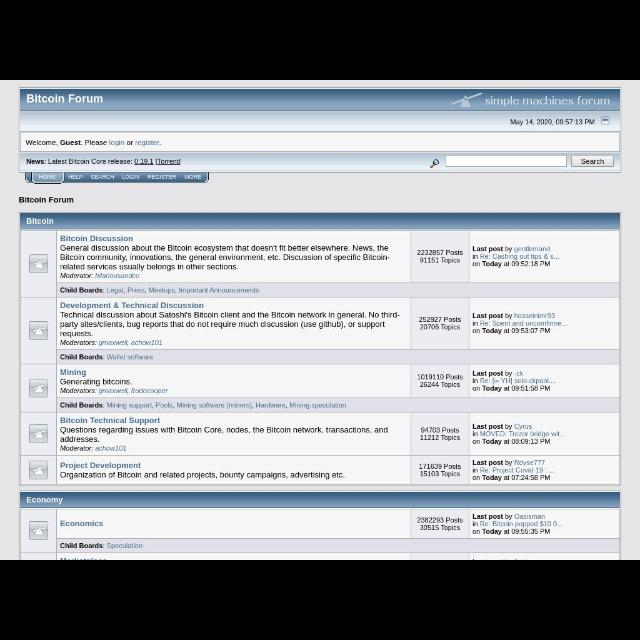button: (30, 522, 50, 542), (30, 377, 48, 399), (30, 254, 48, 274), (30, 320, 48, 340), (30, 424, 48, 444), (30, 460, 48, 480)
icon: (34, 258, 46, 270), (34, 382, 46, 394), (34, 326, 46, 336), (34, 464, 44, 476), (34, 428, 44, 439), (34, 526, 44, 536), (602, 118, 608, 124)
image: (452, 90, 483, 110), (426, 159, 439, 169)
input: (446, 154, 566, 168)
link: (60, 302, 204, 310), (60, 415, 160, 425), (59, 462, 142, 470), (178, 285, 260, 293), (479, 430, 561, 438), (480, 520, 560, 528), (175, 401, 251, 409), (289, 401, 347, 411), (61, 234, 133, 242), (480, 377, 550, 385), (480, 466, 544, 474), (480, 321, 562, 327), (94, 270, 140, 280), (131, 385, 169, 397), (480, 253, 556, 259), (106, 352, 156, 360), (108, 401, 152, 409), (59, 519, 103, 527), (106, 542, 144, 550), (99, 386, 129, 396), (254, 402, 286, 411), (94, 445, 128, 453), (514, 313, 556, 319), (516, 513, 546, 521), (99, 339, 128, 347), (130, 339, 163, 346), (59, 368, 86, 376), (514, 246, 550, 252), (148, 287, 174, 295), (108, 136, 124, 148), (515, 459, 545, 465), (126, 286, 146, 294), (514, 422, 534, 430), (136, 140, 160, 146), (106, 286, 124, 294), (156, 402, 174, 410), (514, 371, 524, 375)
multitab: (25, 172, 208, 182)
panel: (20, 212, 620, 488), (19, 88, 621, 172)
text: (61, 309, 402, 339), (60, 242, 392, 272), (61, 426, 390, 444), (59, 284, 264, 298), (472, 419, 566, 449), (470, 308, 568, 336), (59, 402, 349, 411), (469, 242, 561, 270), (60, 472, 346, 481), (470, 510, 560, 536), (472, 458, 556, 482), (26, 156, 184, 168), (472, 370, 554, 392), (486, 95, 610, 107), (25, 138, 165, 148), (59, 386, 169, 396), (61, 352, 156, 362), (61, 339, 166, 348), (27, 93, 104, 105), (509, 117, 595, 127), (414, 516, 464, 532), (416, 248, 464, 264), (416, 373, 464, 389), (420, 426, 460, 444), (60, 272, 144, 280), (419, 316, 461, 332), (419, 463, 461, 479), (60, 542, 144, 550), (61, 444, 127, 454), (18, 196, 76, 207), (60, 377, 132, 385), (26, 496, 64, 504), (146, 174, 176, 182), (27, 218, 55, 226), (90, 173, 114, 181), (184, 173, 202, 181), (122, 173, 138, 181), (38, 174, 56, 180), (68, 176, 84, 180)
textbutton: (572, 154, 612, 166)
